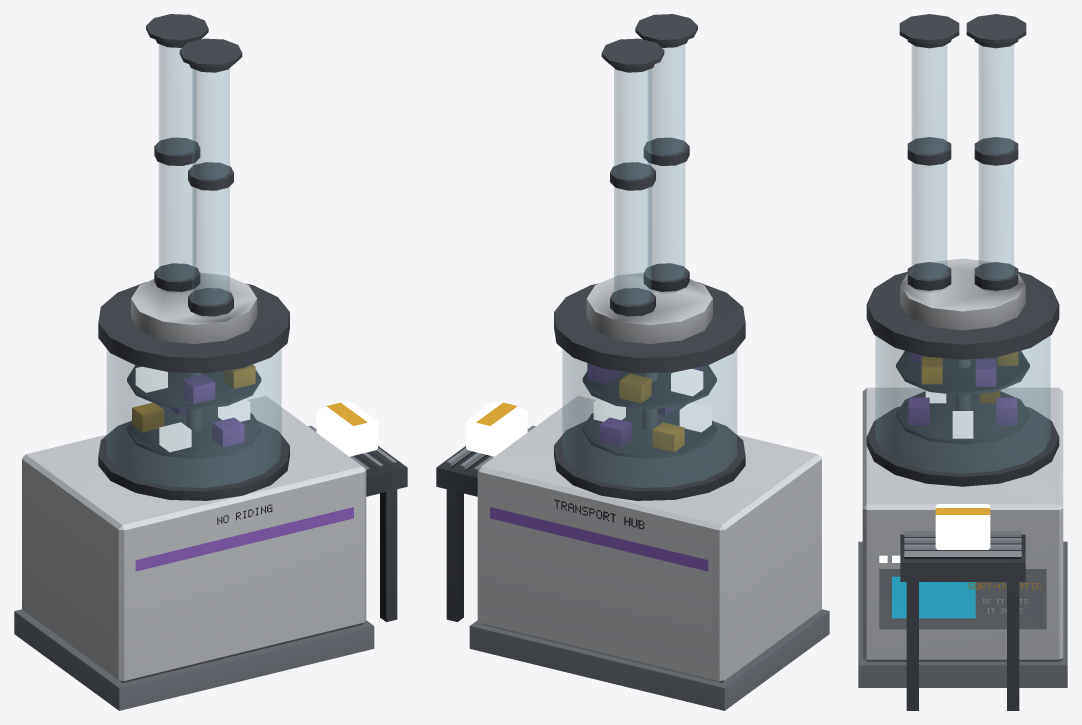
The model's file is transport_hub_xl.glb.
The picture shows the model from 3 angles, left to right: view 1: azimuth 30°, elevation 25°; view 2: azimuth 150°, elevation 25°; view 3: azimuth 270°, elevation 25°; orthographic projection.
Parts seen in each view (by area): view 1: Interior; view 2: Interior; view 3: Interior.
Part boxes in pixels (box(x1,y1,x2,y2)): Interior: box(14, 14, 407, 710); Interior: box(436, 14, 829, 710); Interior: box(858, 14, 1067, 710).
Size of the model in its own units: 1.7 by 3.16 by 1.
